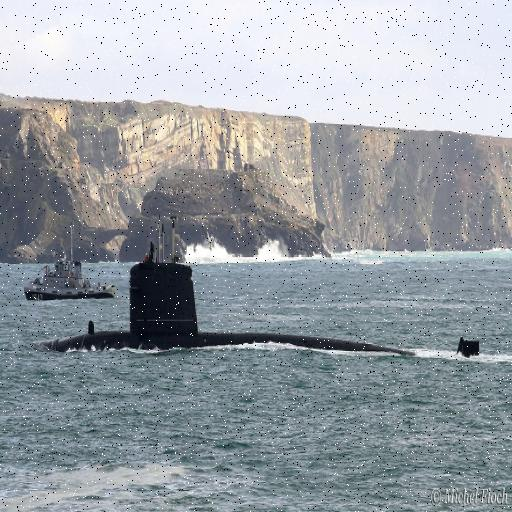submarine: (44, 259, 483, 360)
